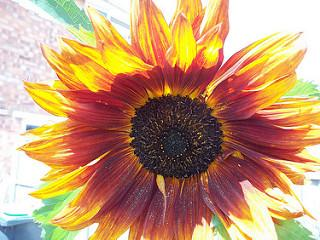sunflower: (24, 0, 320, 240)
